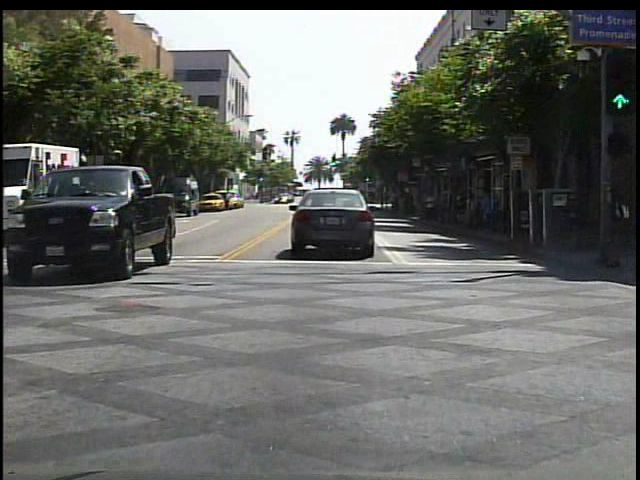person: (602, 171, 634, 273), (422, 187, 441, 223)
